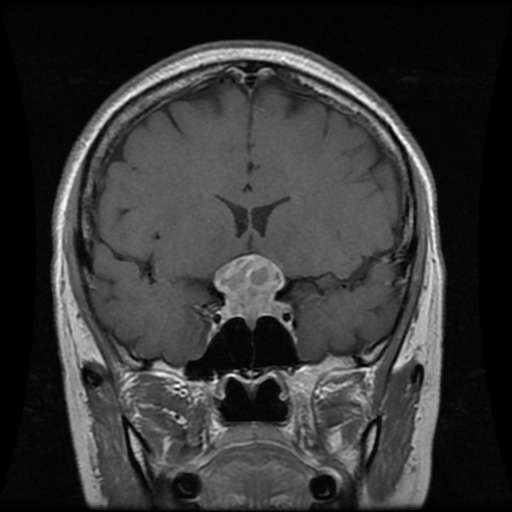pituitary: (214, 253, 291, 330)
